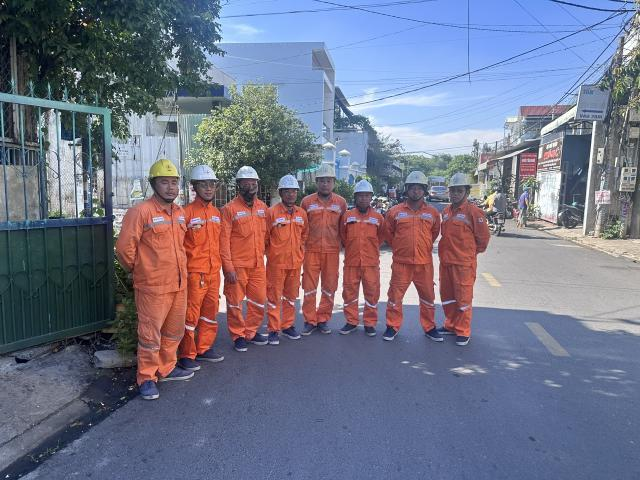helmet: (189, 163, 227, 188), (144, 161, 182, 181), (275, 170, 301, 193), (403, 168, 430, 188), (237, 164, 260, 183), (448, 170, 471, 188), (318, 160, 335, 179), (351, 182, 377, 194)
shoes: (146, 363, 193, 382), (179, 352, 203, 375), (138, 378, 161, 399), (199, 345, 225, 363), (249, 327, 269, 350), (232, 332, 251, 354), (383, 319, 400, 342), (340, 316, 358, 336), (281, 325, 300, 343), (299, 317, 317, 336), (434, 321, 456, 336), (427, 324, 445, 342), (316, 317, 333, 336), (362, 320, 379, 339), (268, 327, 282, 348), (454, 331, 472, 347)
